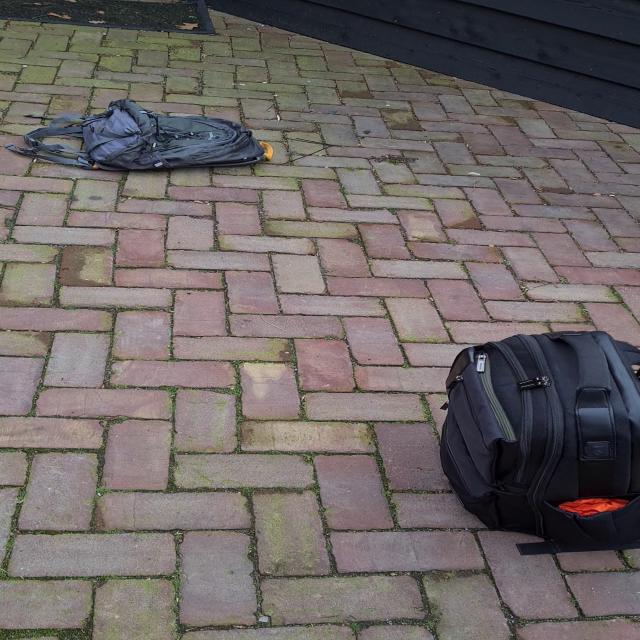backpack: (436, 327, 640, 564)
